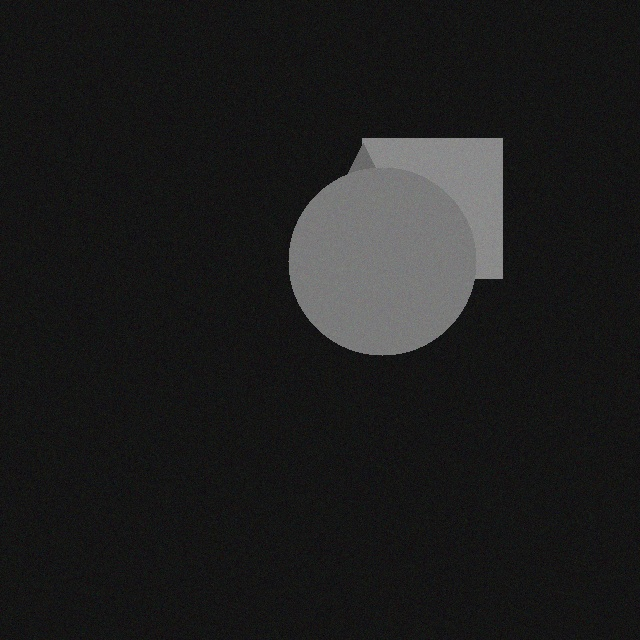circle: (301, 156, 489, 344)
square: (375, 127, 515, 267)
triangle: (319, 132, 433, 246)
